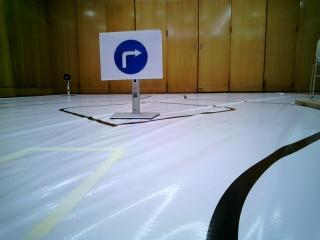right: (102, 34, 162, 75)
